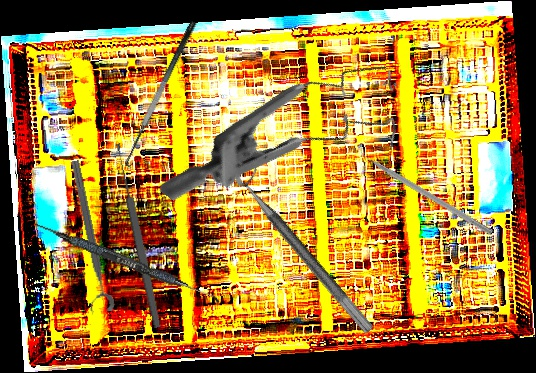Chopper: (354, 141, 498, 236)
Fixation Ring: (227, 152, 389, 336), (58, 158, 116, 316)
Spatula Surgical: (31, 220, 223, 304), (118, 19, 209, 172)
Speculum: (157, 0, 428, 286)
Surgical Spoon: (113, 142, 163, 329)
